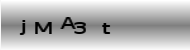3: (72, 20, 86, 35)
A: (59, 16, 76, 30)
M: (34, 20, 53, 35)
j: (18, 19, 28, 36)
t: (101, 21, 111, 35)
